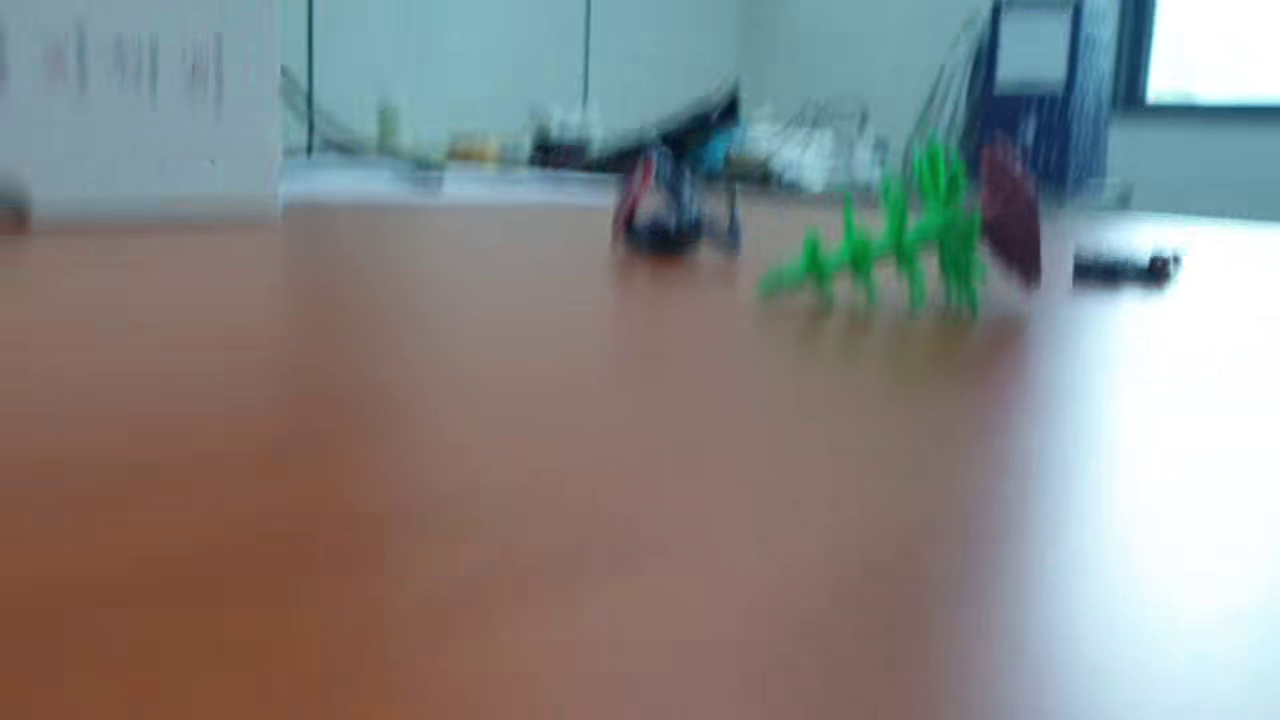people: (609, 126, 746, 264), (1065, 244, 1183, 293)
tree: (750, 135, 1047, 331)
